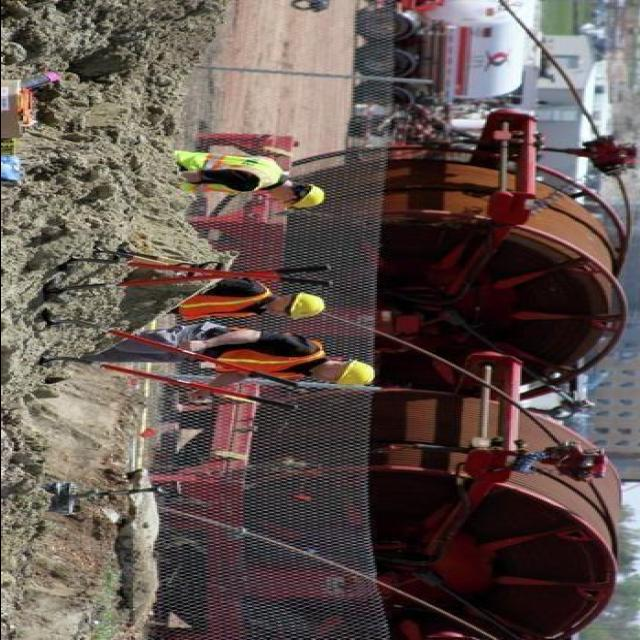helmet: (284, 289, 331, 320), (334, 358, 376, 390), (291, 180, 331, 212)
jacket: (172, 148, 288, 198), (214, 333, 332, 379), (163, 276, 271, 323)
